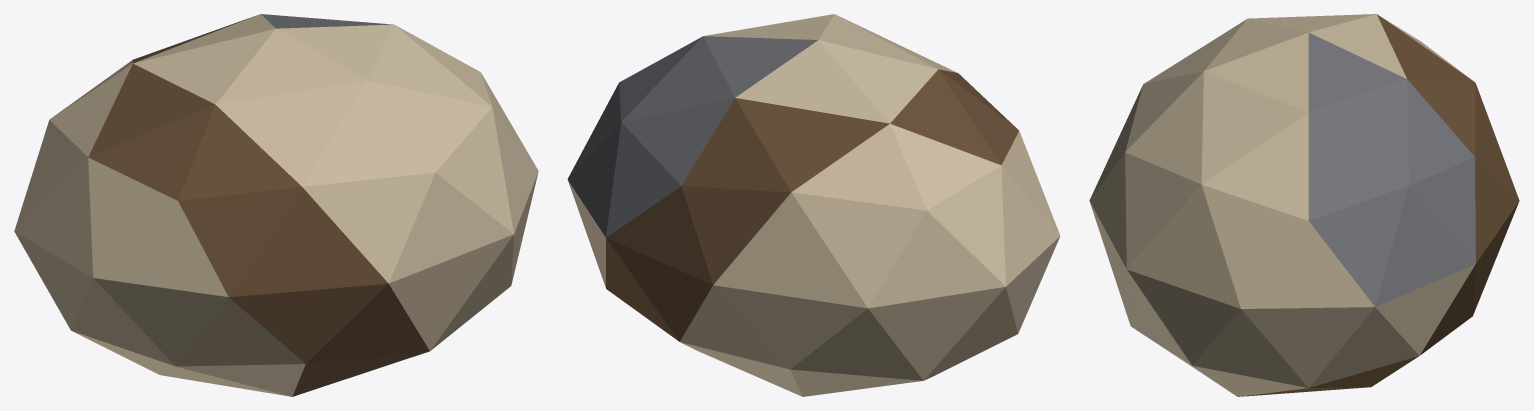
File: smooth_pebble.glb
3 renders of one model, left to right at view 1: azimuth 30°, elevation 25°; view 2: azimuth 150°, elevation 25°; view 3: azimuth 270°, elevation 25°, orthographic. The views are drawn at different scales.
Parts seen in each view (by area): view 1: smooth_pebble; view 2: smooth_pebble; view 3: smooth_pebble.
Boxes of the visible parts, x1,y1,x2,y2 form: smooth_pebble: (14,14,538,396); smooth_pebble: (567,14,1060,396); smooth_pebble: (1089,14,1519,396).
Size of the model in its own units: 0.05 by 0.035 by 0.042.
